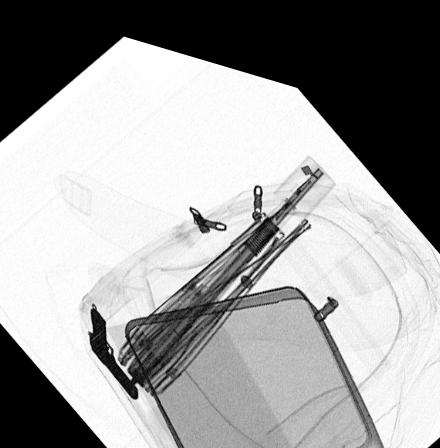Gun: (88, 300, 137, 394)
